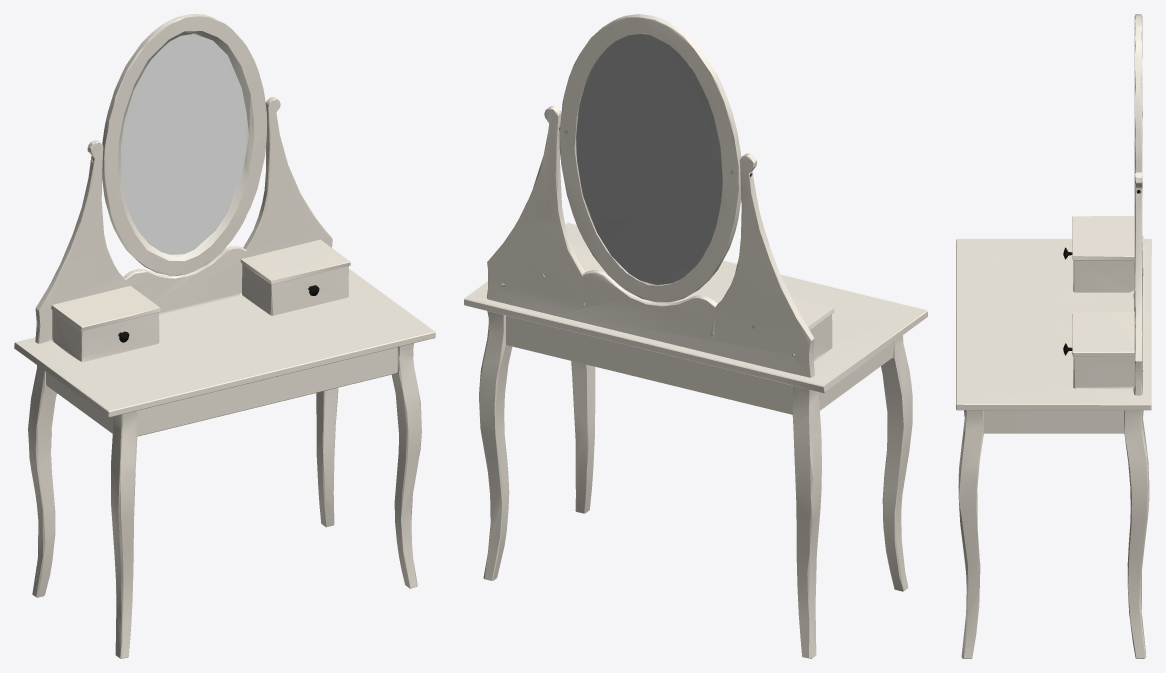
File: hemnes-tocador-blanco.glb
The picture shows the model from 3 angles, left to right: view 1: azimuth 30°, elevation 25°; view 2: azimuth 150°, elevation 25°; view 3: azimuth 270°, elevation 25°; orthographic projection. The views are drawn at different scales.
Visible parts, largest first — view 1: ProcessedMeshNode; view 2: ProcessedMeshNode; view 3: ProcessedMeshNode.
Boxes of the visible parts, x1,y1,x2,y2 form: ProcessedMeshNode: (14, 14, 435, 658); ProcessedMeshNode: (464, 14, 927, 658); ProcessedMeshNode: (956, 14, 1151, 658).
Bounding box in the file's own units: 1 × 1.59 × 0.5006.
2 materials, 1 textured.
